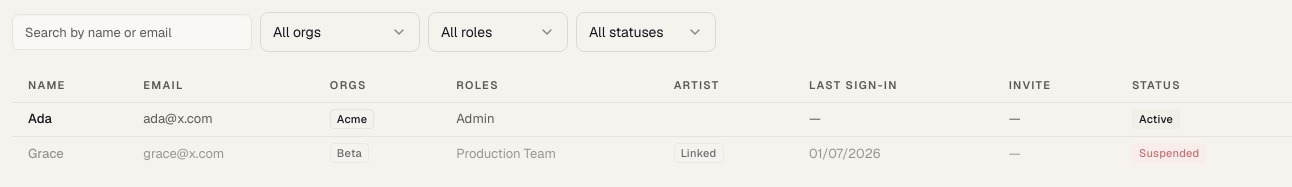
Test: UsersTab › filters by org
Click the dropdown named "Org filter" at (340, 32), box left=260, top=12, right=420, bottom=52
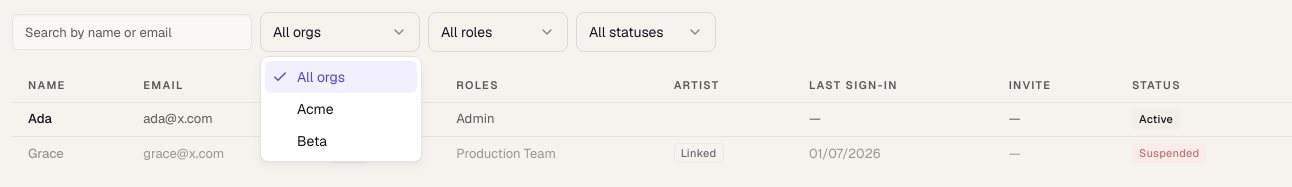
Click the option "Acme" at (315, 109), box left=297, top=100, right=334, bottom=118
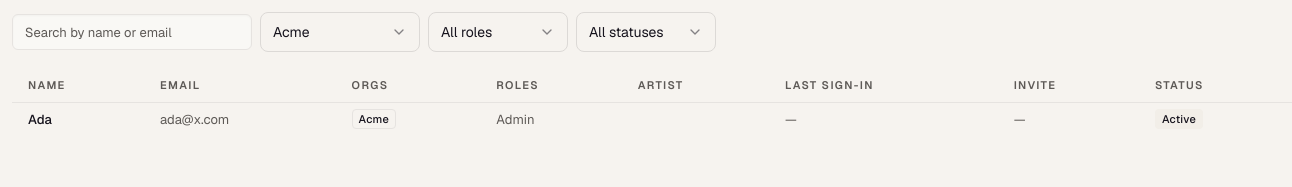
Expected: the text "Ada" is shown, left=12, top=102, right=144, bottom=136
Expected: the text "Grace" is gone
Click the dropdown named "Org filter" at (340, 32), box left=260, top=12, right=420, bottom=52
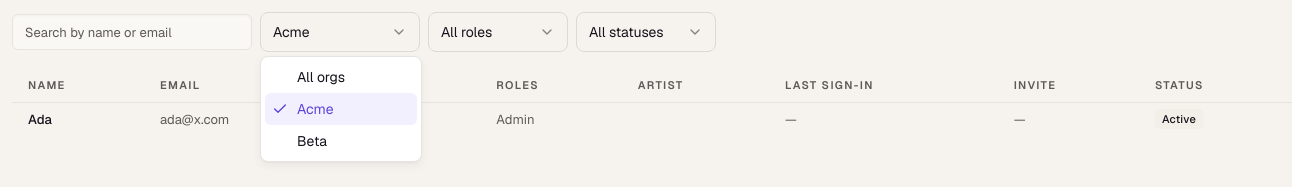
Click the option "All orgs" at (321, 77), box left=297, top=68, right=345, bottom=86
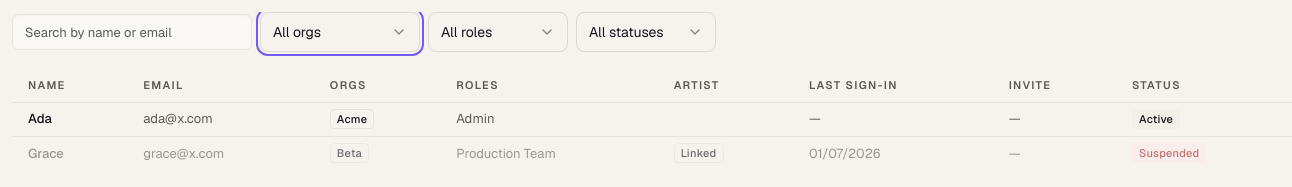
Expected: the text "Ada" is shown, left=12, top=102, right=127, bottom=136
Expected: the text "Grace" is shown, left=12, top=136, right=127, bottom=170
